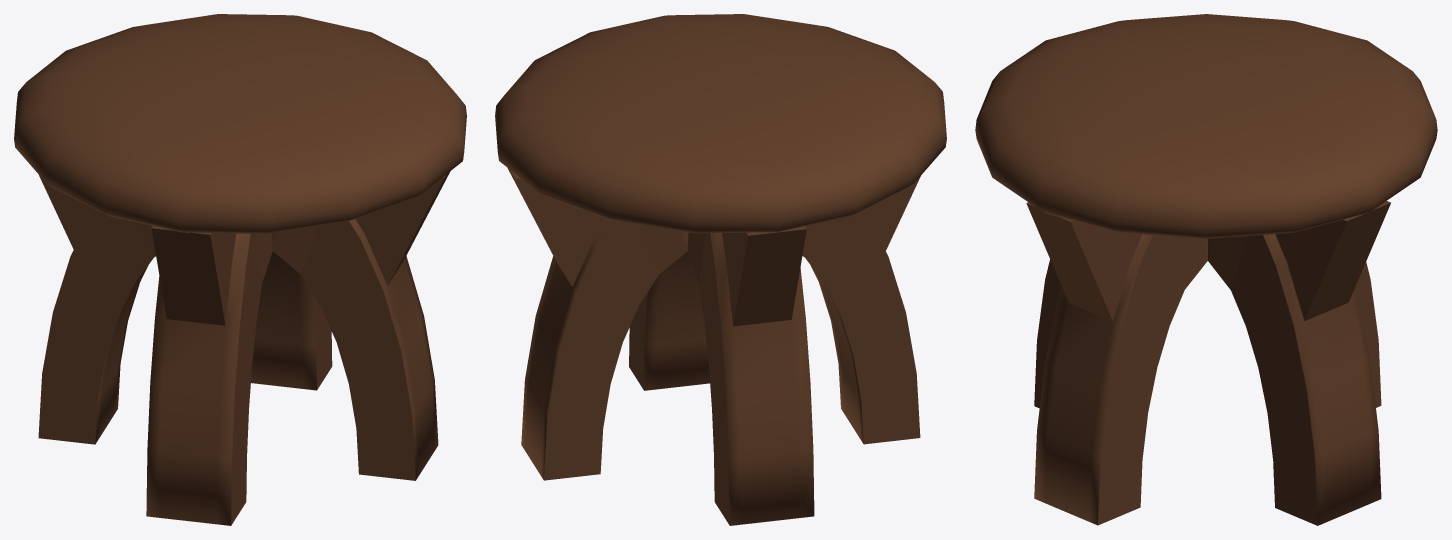
The model's file is WoodenChair.fbx.
3 renders of one model, left to right at view 1: azimuth 30°, elevation 25°; view 2: azimuth 150°, elevation 25°; view 3: azimuth 270°, elevation 25°, orthographic. The views are drawn at different scales.
Parts seen in each view (by area): view 1: WoodenChair; view 2: WoodenChair; view 3: WoodenChair.
Boxes of the visible parts, x1,y1,x2,y2 form: WoodenChair: (14, 14, 466, 525); WoodenChair: (495, 14, 946, 525); WoodenChair: (975, 14, 1437, 525).
Bounding box in the file's own units: 38.18 × 33.7 × 38.18.
